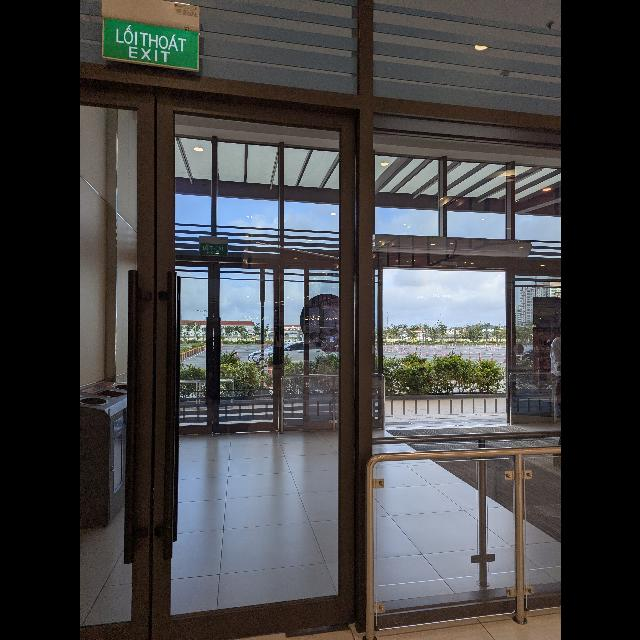exit: (101, 18, 199, 72)
